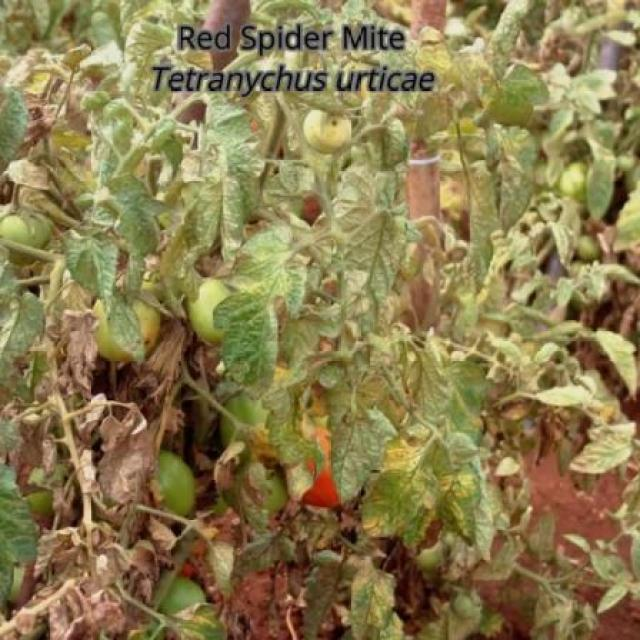Spider Mites: (210, 221, 310, 406), (258, 380, 328, 500), (328, 405, 398, 505), (358, 466, 439, 540), (64, 225, 120, 318), (350, 567, 400, 640)
